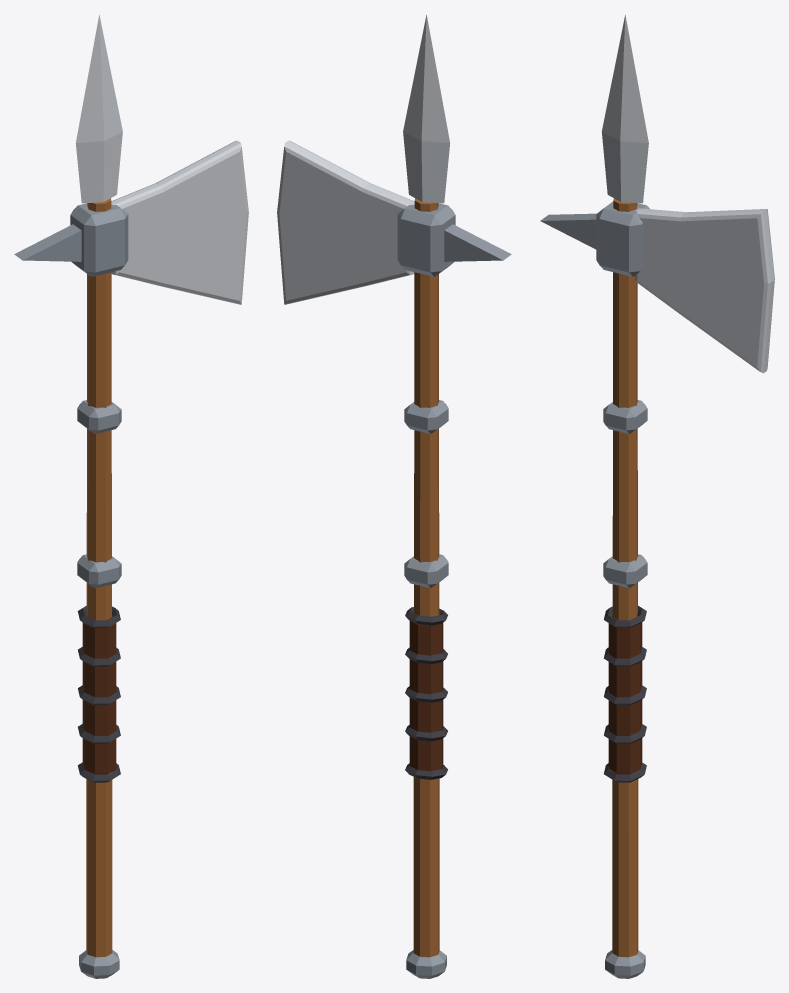
The model's file is IronHalberd.fbx.
The picture shows the model from 3 angles, left to right: view 1: azimuth 30°, elevation 25°; view 2: azimuth 150°, elevation 25°; view 3: azimuth 330°, elevation 25°; orthographic projection.
Visible parts, largest first — view 1: IronHalberd; view 2: IronHalberd; view 3: IronHalberd.
Boxes of the visible parts, box(x1,y1,x2,y2) form: IronHalberd: box(14, 15, 248, 978); IronHalberd: box(277, 15, 511, 978); IronHalberd: box(540, 15, 774, 978).
Bounding box in the file's own units: 1.55 × 6.22 × 0.2614.
1 material, 1 textured.
